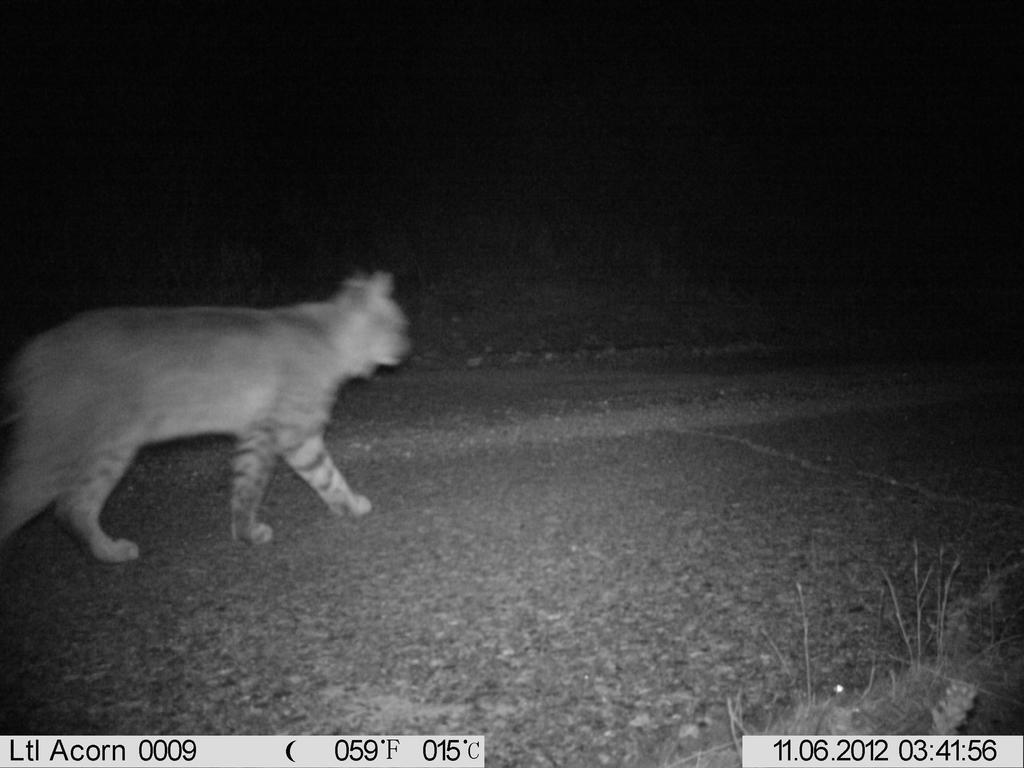bobcat: (1, 261, 429, 572)
